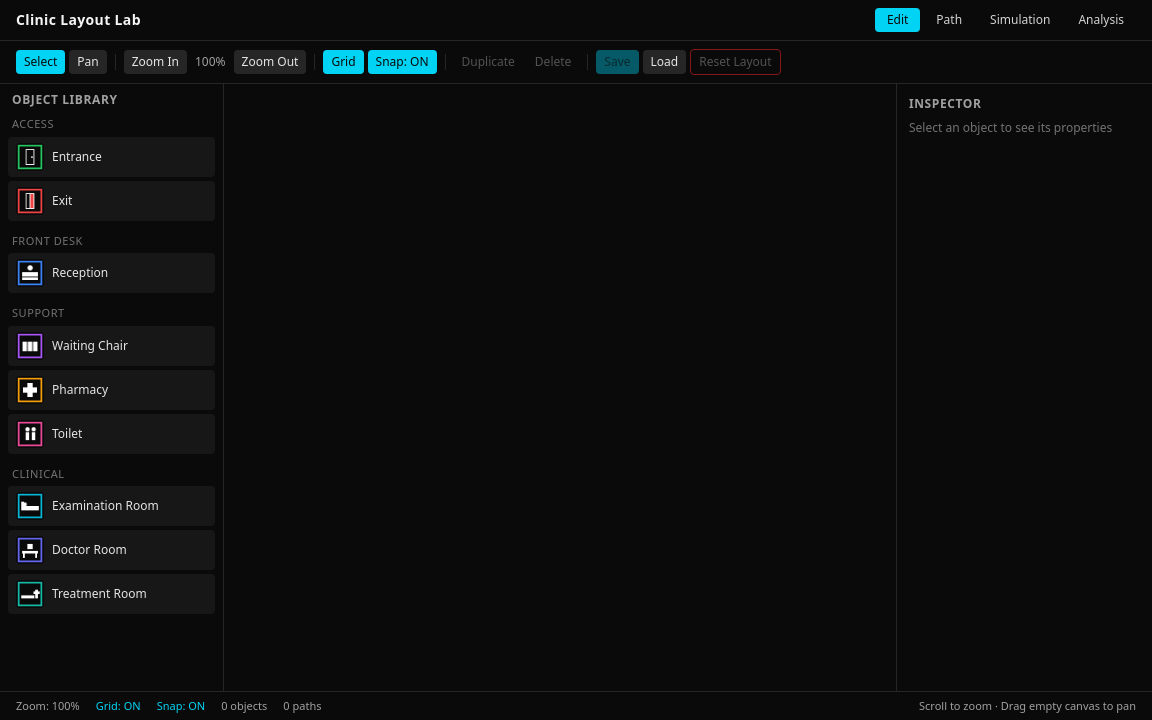
Test: Analysis mode (TC-067, TC-070) › opens with an empty state when no movement data exists
Click the button "Analysis": (1101,20) [1066,8,1136,32]
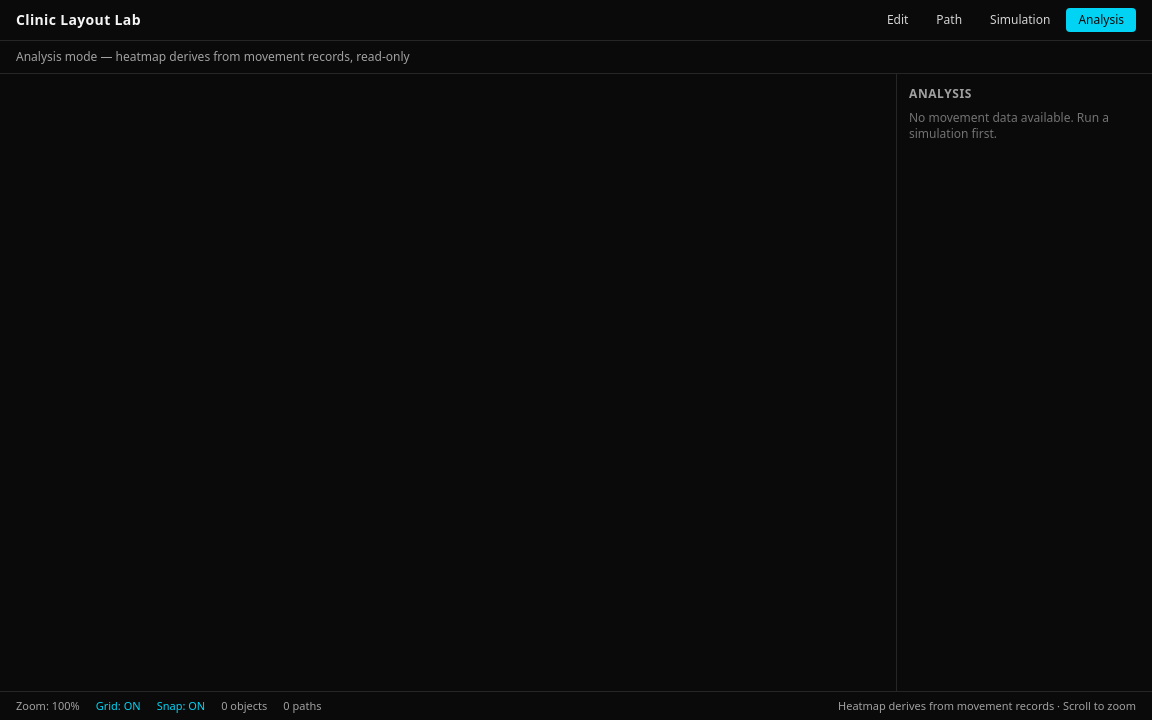
expect the element named "Analysis panel" is shown: met, box [896,74,1151,690]
expect the text "No movement data available. Run a simulation first." is shown: met, box [909,110,1140,142]
expect the element named "Analysis tools" is shown: met, box [0,41,1151,74]
